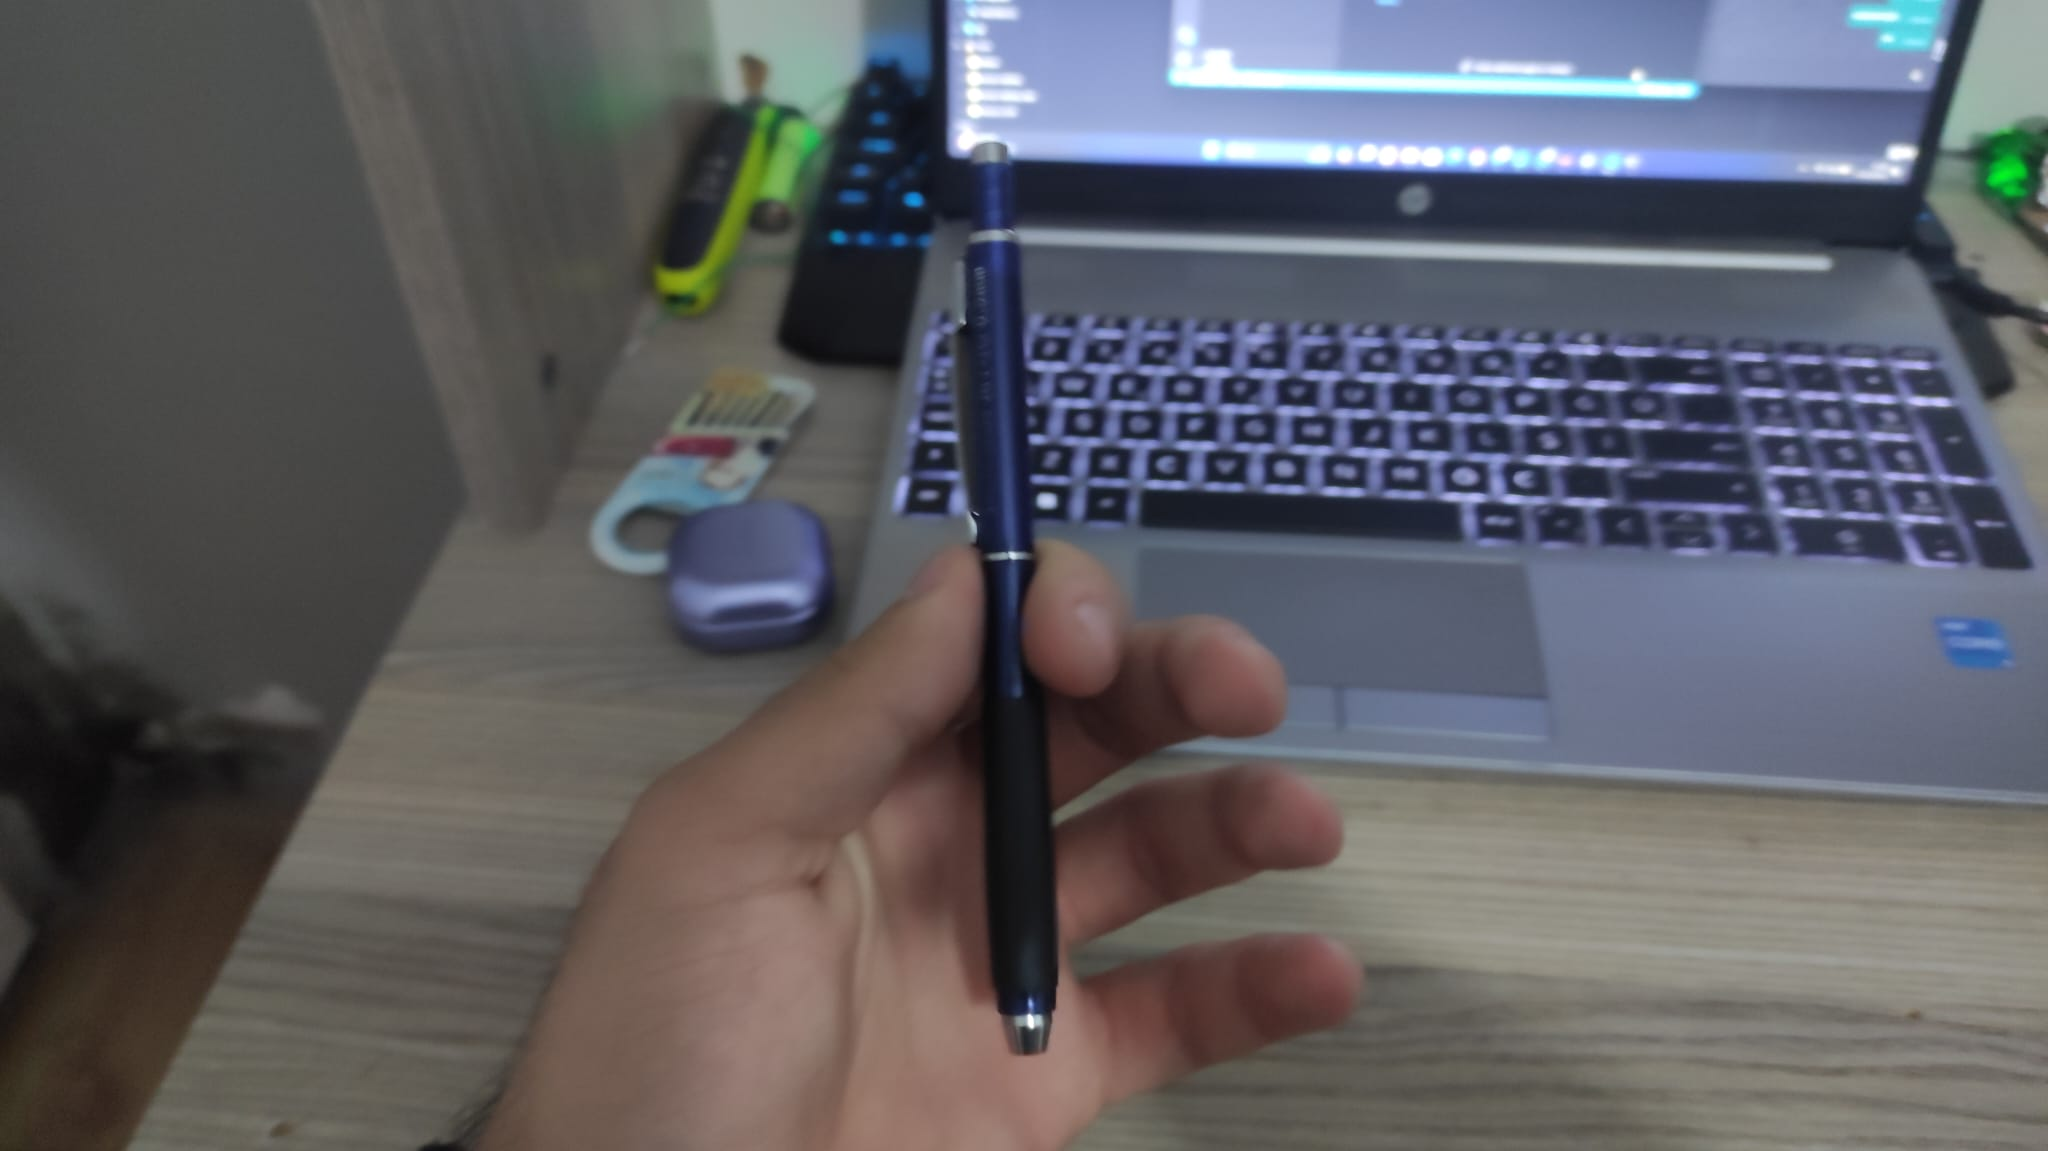kalem: (942, 134, 1056, 1055)
